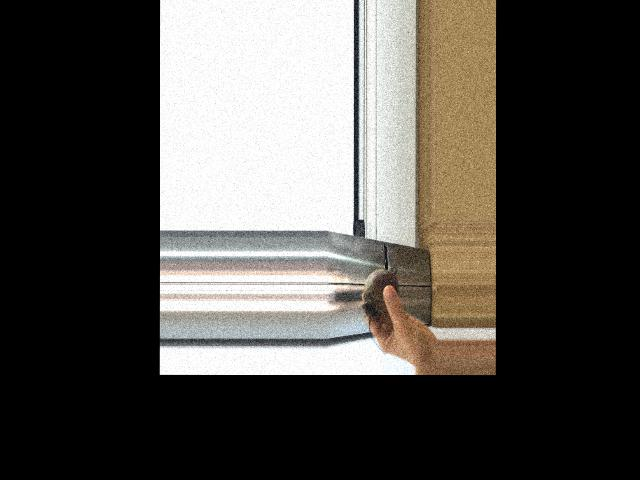beet: (362, 260, 399, 353)
